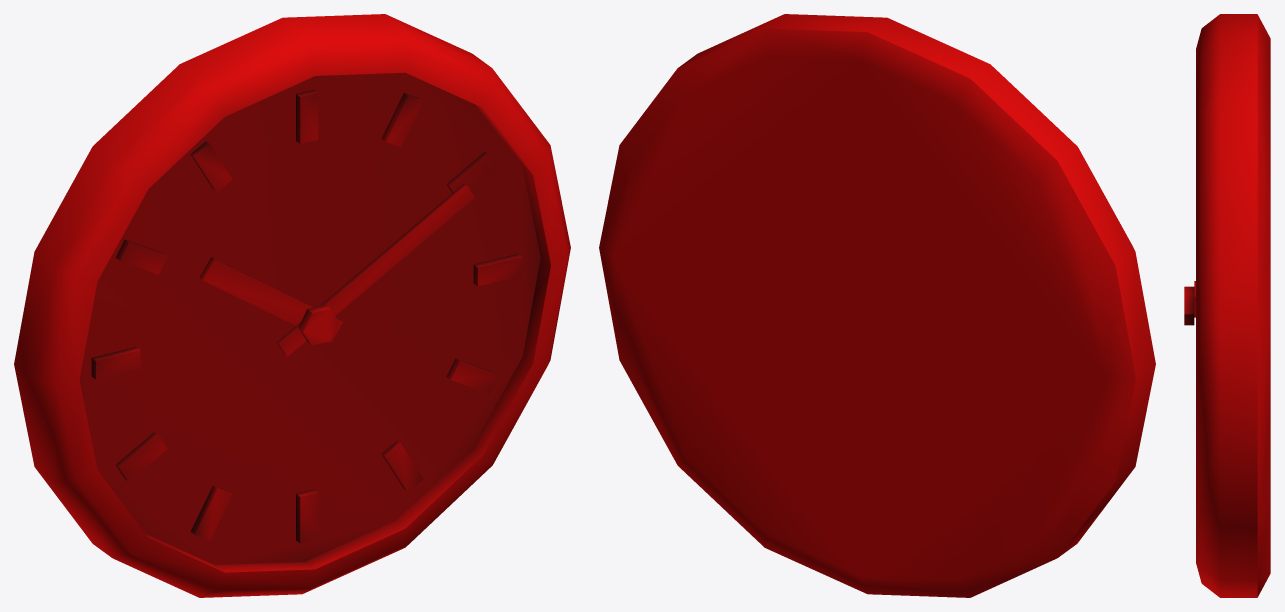
The model's file is CI_Decor_Clock_Round.glb.
3 views of the same model, side by side, from view 1: azimuth 30°, elevation 25°; view 2: azimuth 150°, elevation 25°; view 3: azimuth 270°, elevation 25° (orthographic). The views are drawn at different scales.
Visible parts, largest first — view 1: CI_Decor_Clock_Round; view 2: CI_Decor_Clock_Round; view 3: CI_Decor_Clock_Round.
Boxes of the visible parts, x1,y1,x2,y2 form: CI_Decor_Clock_Round: (14, 14, 570, 597); CI_Decor_Clock_Round: (599, 14, 1155, 597); CI_Decor_Clock_Round: (1184, 14, 1270, 597).
Size of the model in its own units: 0.36 by 0.36 by 0.053.
